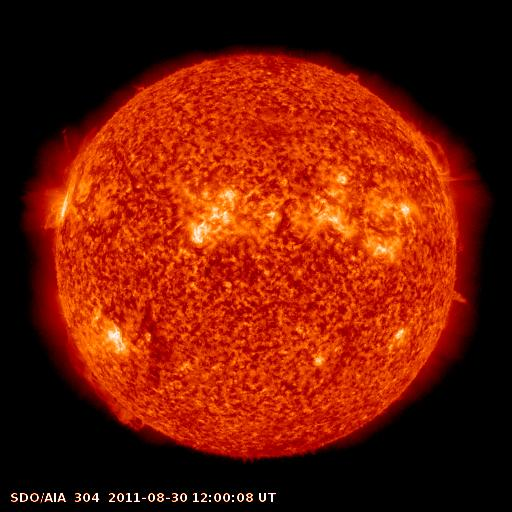prominence: (58, 322, 150, 436), (424, 131, 475, 250), (65, 117, 103, 161), (444, 279, 479, 316)
